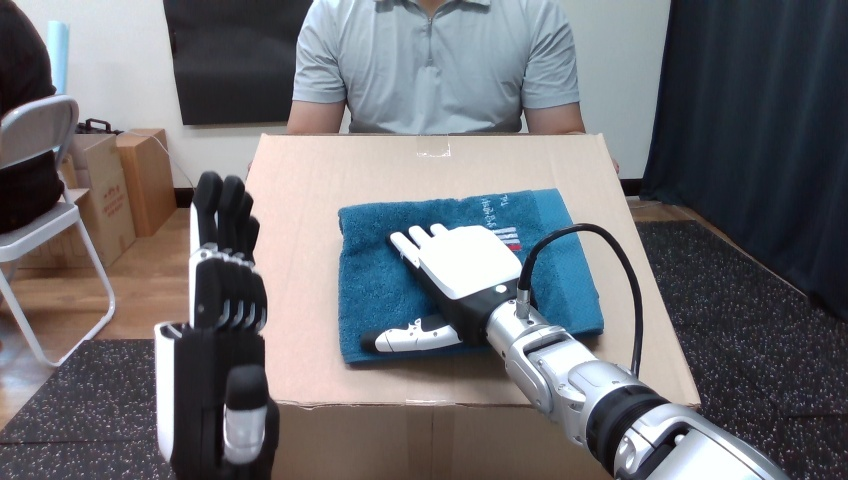left robot hand: (362, 223, 787, 479), (155, 172, 278, 478), (530, 230, 636, 370)
